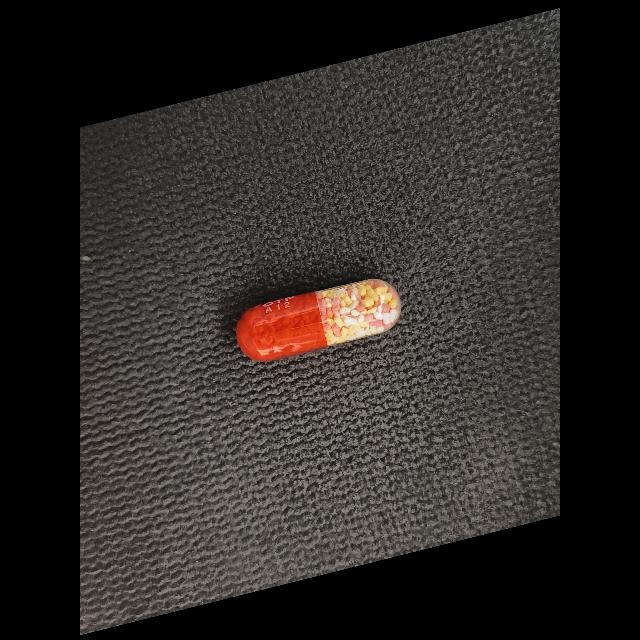Intact Capsule: (236, 279, 401, 362)
